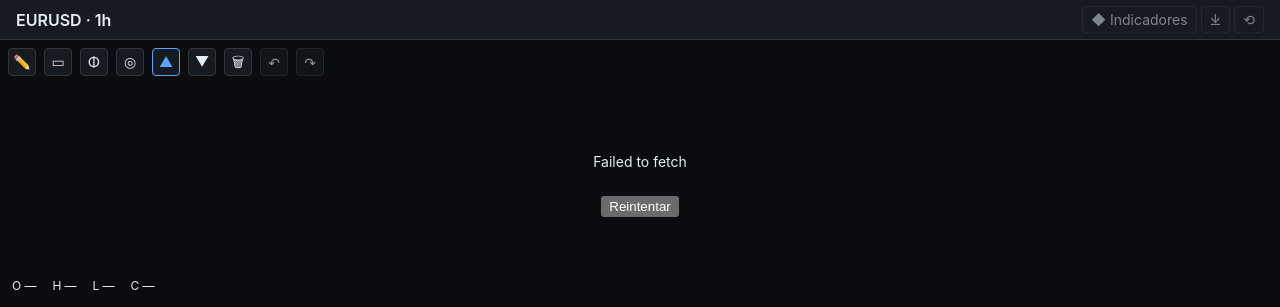
ChartPane › shows an error and retries the request
The image size is (1280, 307).
expect the message "Failed to fetch Reintentar" is shown: met, box [593,153,687,217]
Click the button "Reintentar".
click(640, 206)  # box [601,196,679,217]
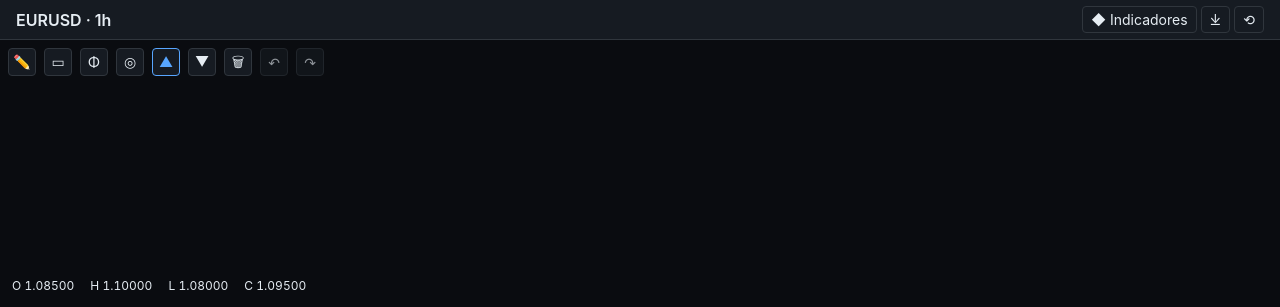
expect the message "Failed to fetch Reintentar" is gone: met
